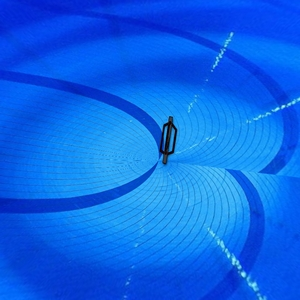submarine: (159, 116, 184, 171)
